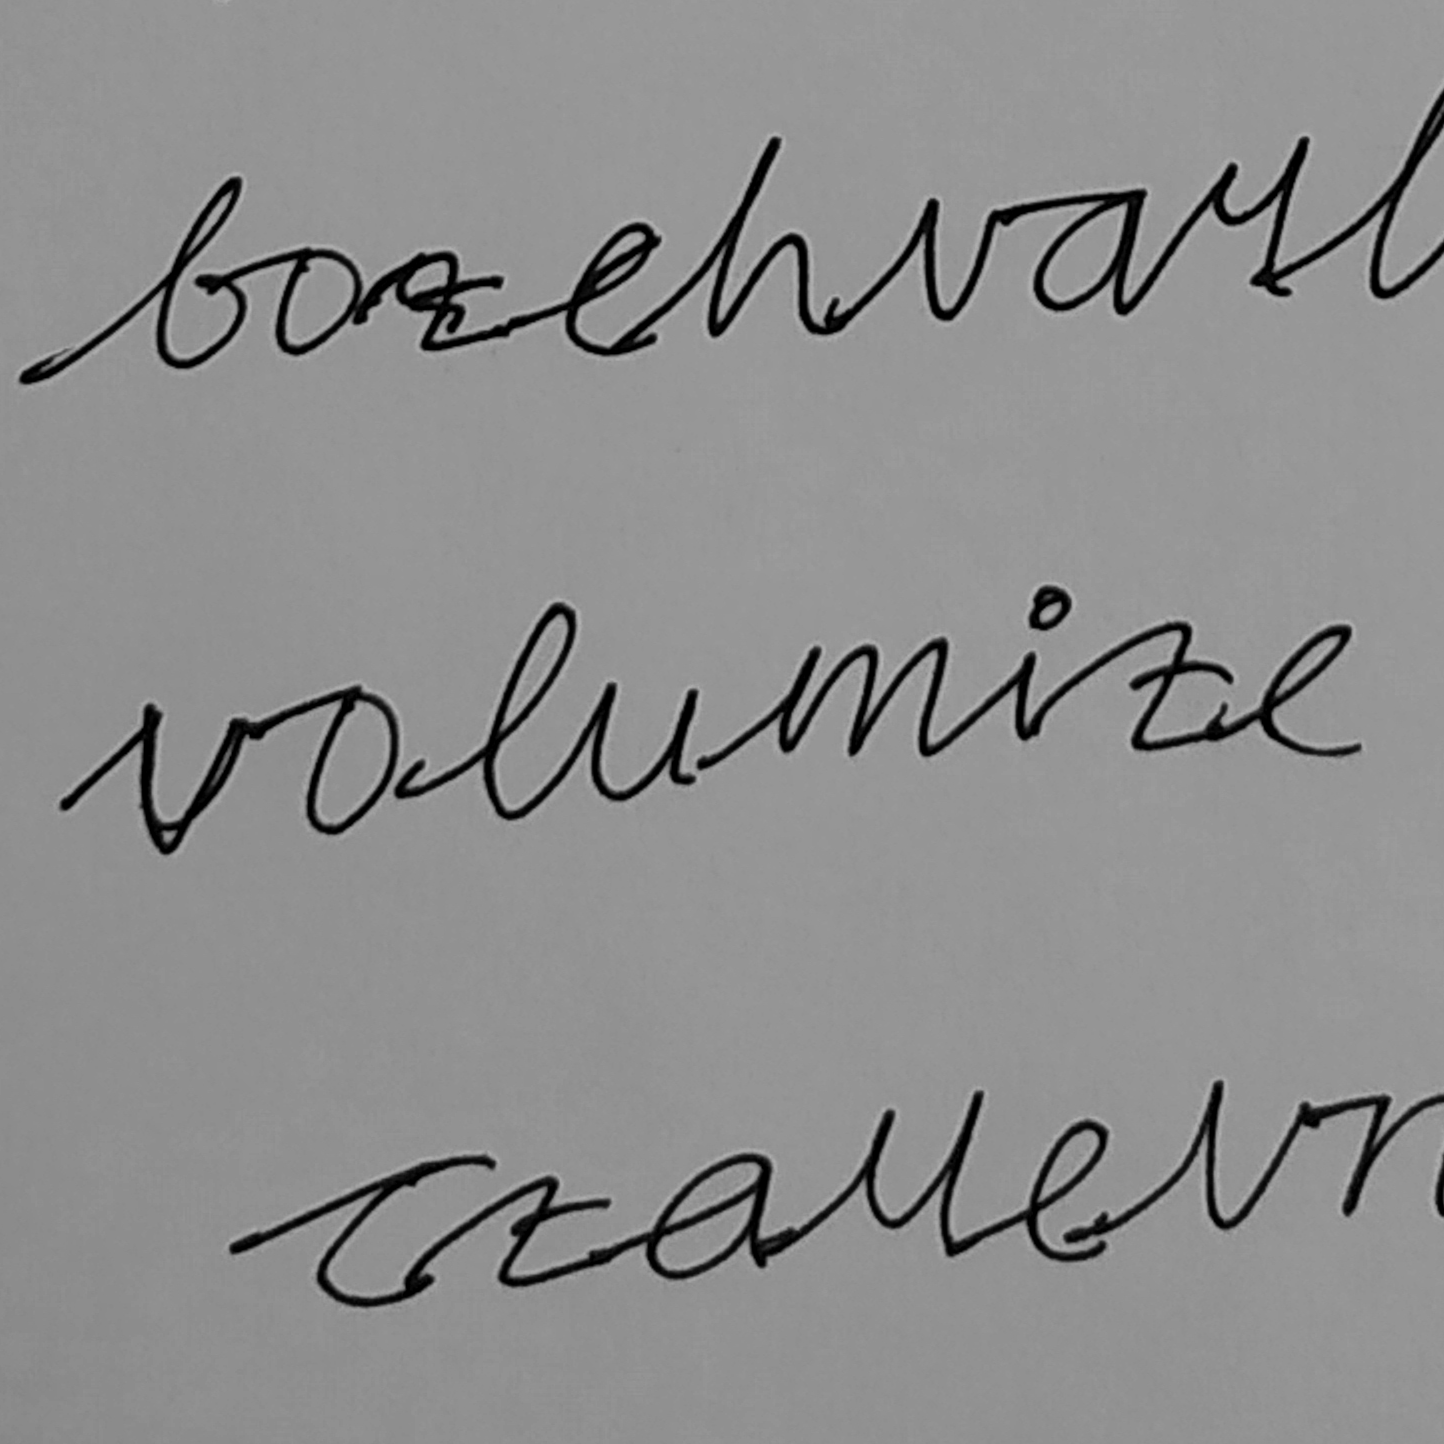e: (1254, 618, 1369, 760)
i: (1004, 581, 1075, 748)
l: (476, 596, 581, 826)
m: (776, 633, 953, 762)
o: (300, 682, 409, 838)
u: (584, 677, 705, 807)
v: (132, 700, 257, 860)
z: (1121, 615, 1239, 755)
